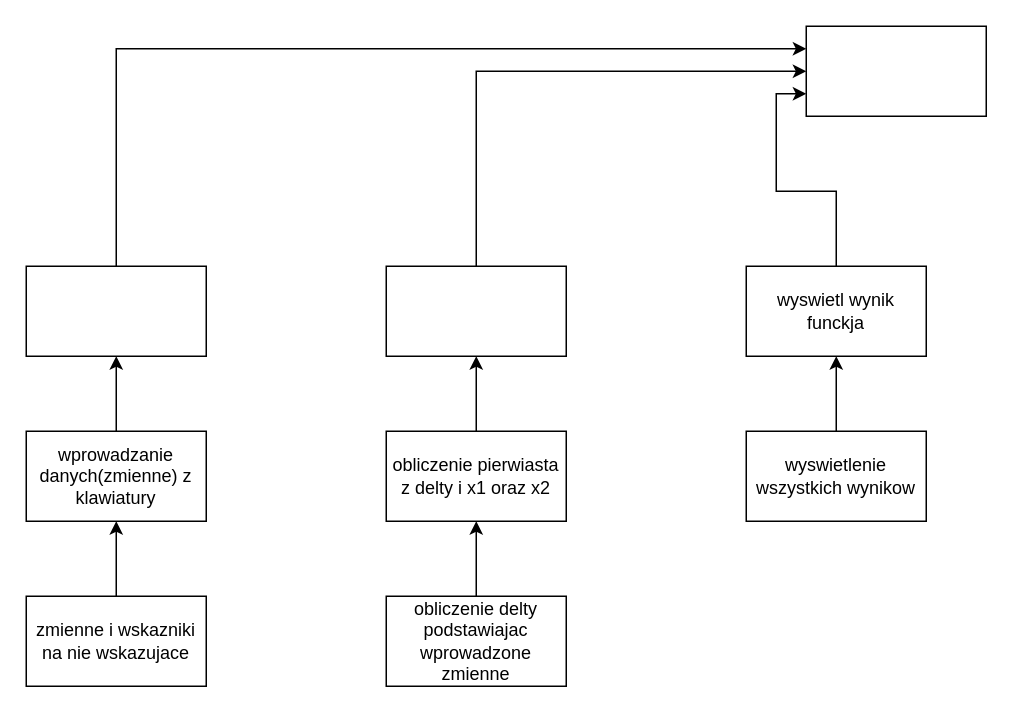
Image size: 1013x713. Some labels were removed from this diagram. The shapes that lost their labels are listed below. From the top down, each one's centre as x and y in pixels, then its label:
the point at 895,70: main
the point at 115,310: wczytaj dane funkcja
the point at 475,310: przetworz dane funkcja
